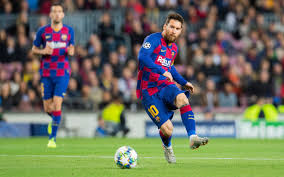football: (112, 145, 140, 169)
